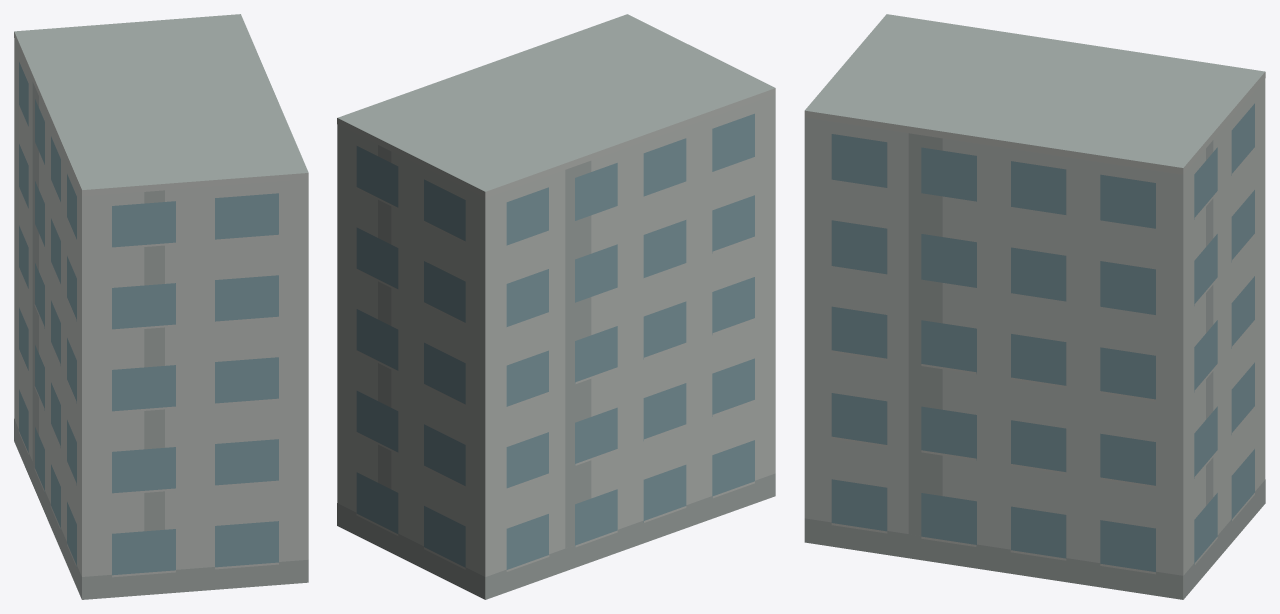
Rendered from residential-d3cf1b0e-525d-46d8-8674-147afaeab5e3.glb.
The picture shows the model from 3 angles, left to right: view 1: azimuth 30°, elevation 25°; view 2: azimuth 150°, elevation 25°; view 3: azimuth 270°, elevation 25°; orthographic projection. The views are drawn at different scales.
Visible parts, largest first — view 1: residential-d3cf1b0e-525d-46d8-8674-147afaeab5e3.tmp; view 2: residential-d3cf1b0e-525d-46d8-8674-147afaeab5e3.tmp; view 3: residential-d3cf1b0e-525d-46d8-8674-147afaeab5e3.tmp.
Part boxes in pixels (x1,y1,x2,y2): residential-d3cf1b0e-525d-46d8-8674-147afaeab5e3.tmp: [14, 14, 308, 599]; residential-d3cf1b0e-525d-46d8-8674-147afaeab5e3.tmp: [337, 14, 775, 599]; residential-d3cf1b0e-525d-46d8-8674-147afaeab5e3.tmp: [804, 14, 1265, 599].
Bounding box in the file's own units: 11.68 × 15.25 × 14.76.
